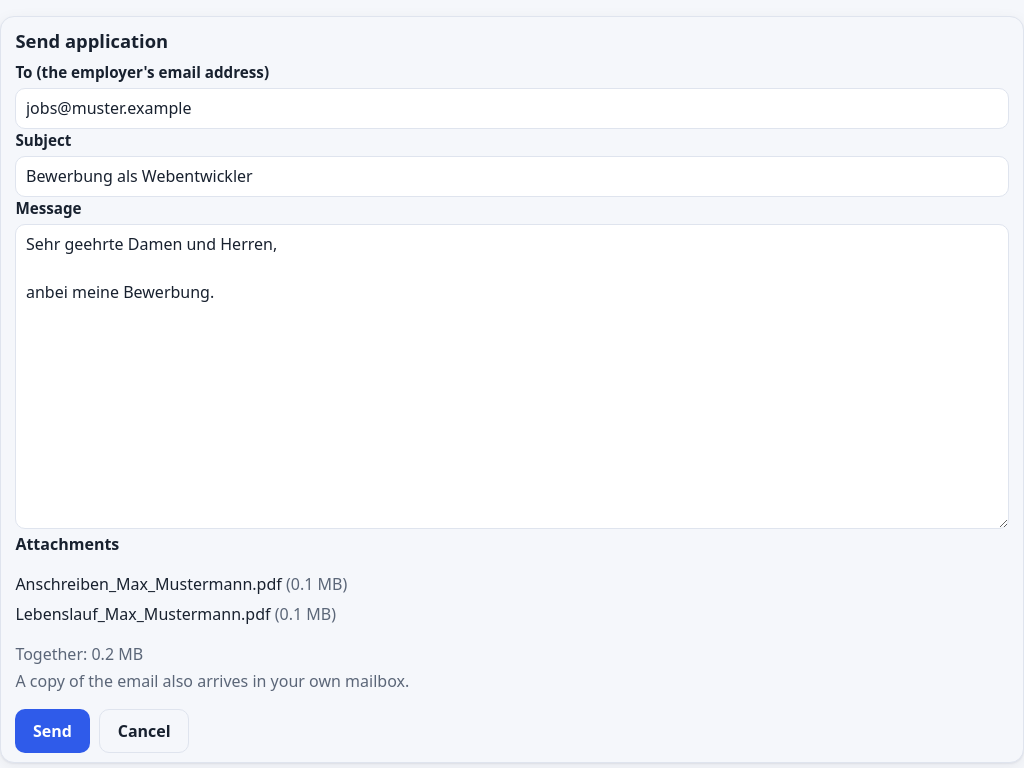
SendDialog › while sending the button and the fields are off (no double click)
Check: the field labelled "Subject" is shown, box [15, 156, 1009, 197]
Click the button "Send" at [52, 731], box [15, 709, 90, 753]
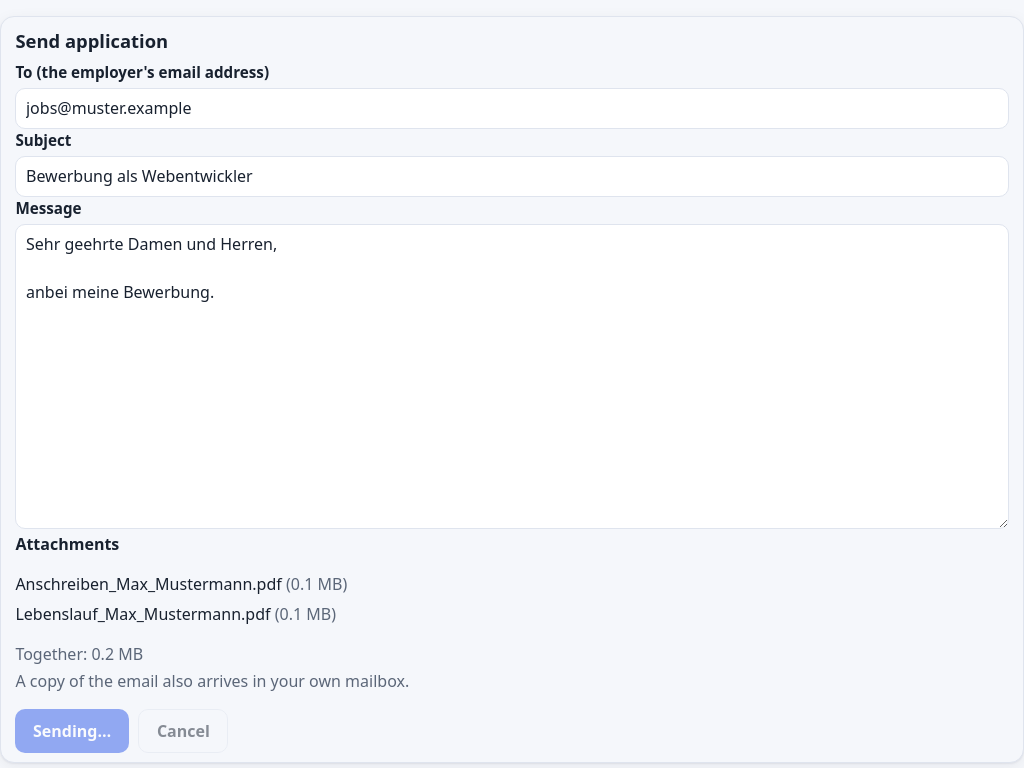
Check: the field labelled "Subject" is disabled, box [15, 156, 1009, 197]
Check: the button "Sending…" is disabled, box [15, 709, 129, 753]
